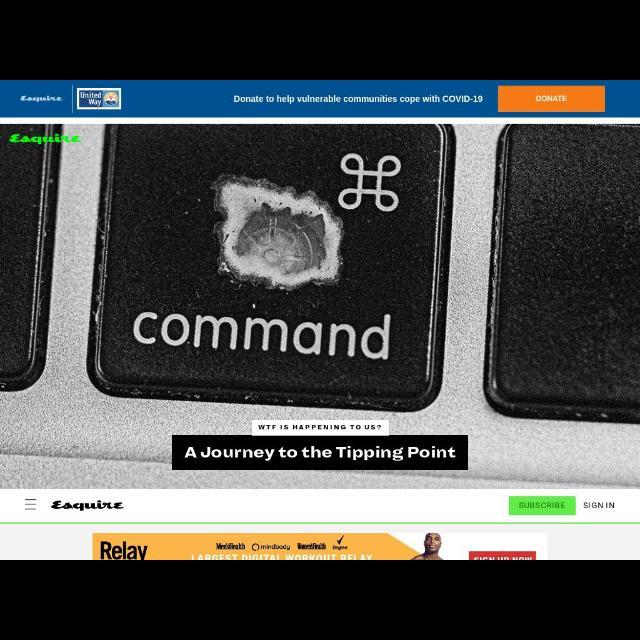icon: (24, 498, 38, 512)
iframe: (93, 533, 549, 559)
image: (1, 125, 639, 488), (78, 88, 122, 109), (52, 500, 124, 510), (21, 95, 64, 103)
text: (234, 94, 484, 106), (520, 502, 566, 510), (582, 501, 616, 511), (534, 95, 566, 104)
textbutton: (498, 86, 604, 112), (510, 496, 576, 514)
toolbar: (1, 488, 639, 524)
